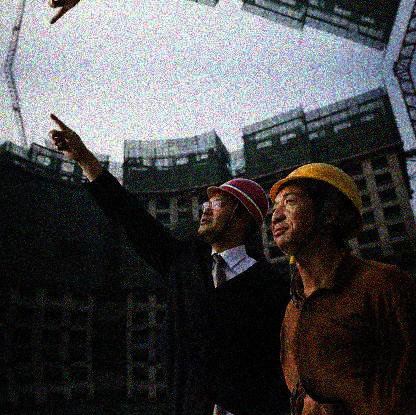helmet: (269, 162, 366, 254), (197, 178, 270, 242)
